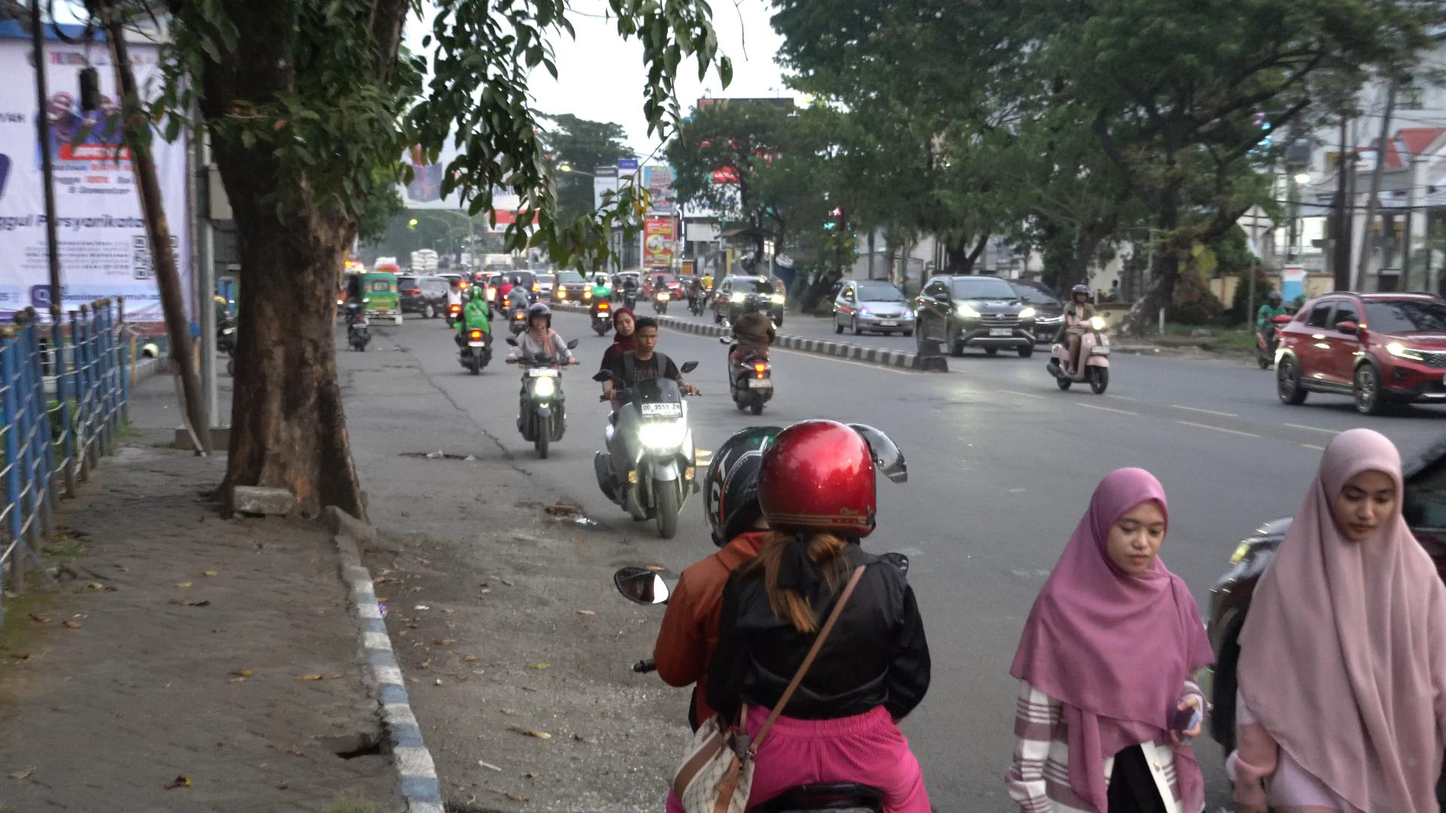number-plate: (643, 398, 686, 420)
